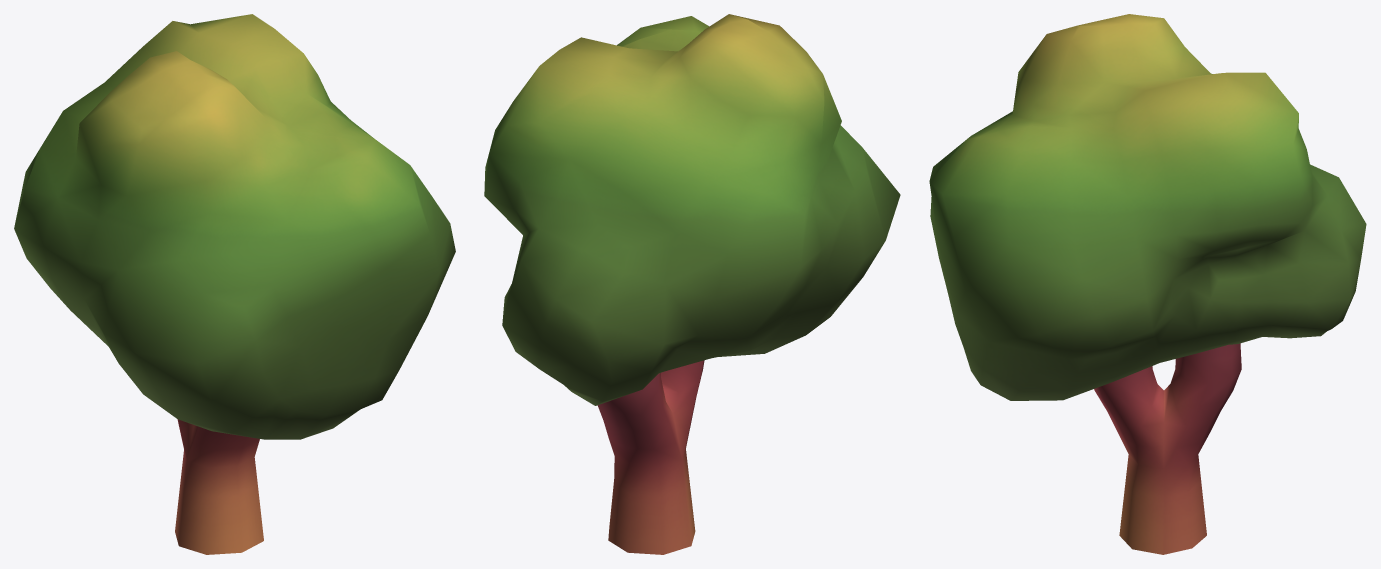
Rendered from GEO_arvore_2.fbx.
3 renders of one model, left to right at view 1: azimuth 30°, elevation 25°; view 2: azimuth 150°, elevation 25°; view 3: azimuth 270°, elevation 25°, orthographic. The views are drawn at different scales.
Parts seen in each view (by area): view 1: GEO_arvore_2; view 2: GEO_arvore_2; view 3: GEO_arvore_2.
Boxes of the visible parts, box(x1,y1,x2,y2) form: GEO_arvore_2: box(14, 14, 455, 554); GEO_arvore_2: box(484, 14, 900, 554); GEO_arvore_2: box(929, 14, 1366, 554).
Size of the model in its own units: 1262 by 1725 by 1396.
